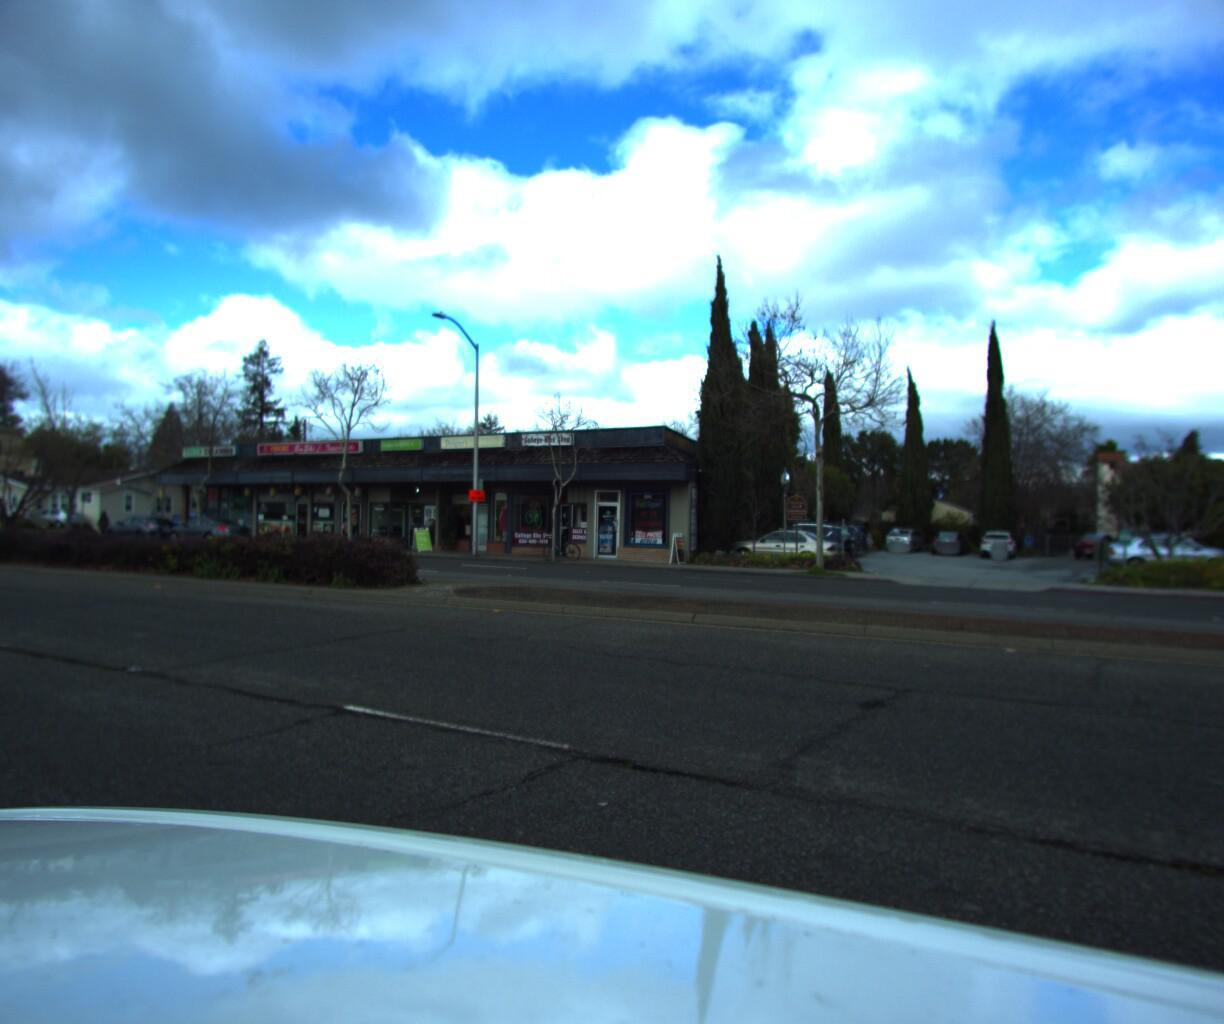bicycle: (539, 530, 586, 557)
car: (715, 521, 847, 568), (736, 515, 861, 562), (752, 516, 869, 559), (157, 510, 260, 547), (95, 508, 184, 543), (17, 502, 91, 526)
